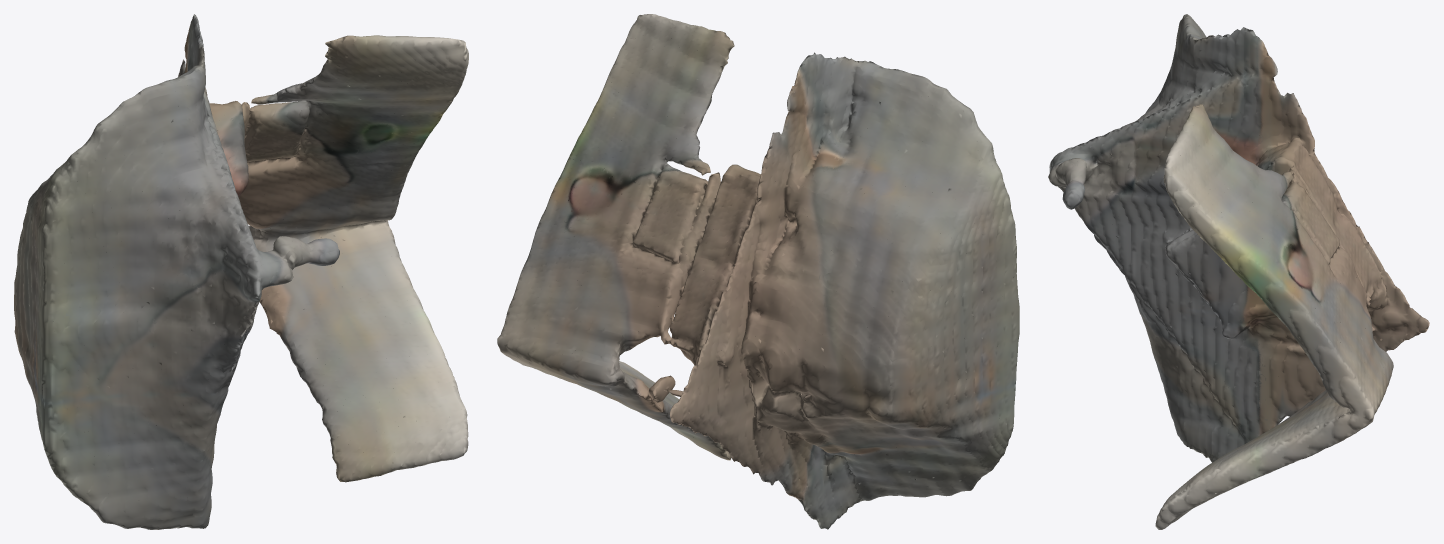
Rendered from clean.glb.
3 views of the same model, side by side, from view 1: azimuth 30°, elevation 25°; view 2: azimuth 150°, elevation 25°; view 3: azimuth 270°, elevation 25° (orthographic). The views are drawn at different scales.
Parts seen in each view (by area): view 1: raw; view 2: raw; view 3: raw.
Part boxes in pixels (bbox=[...]): raw: bbox=[14, 14, 468, 529]; raw: bbox=[497, 14, 1019, 529]; raw: bbox=[1048, 14, 1429, 529].
Size of the model in its own units: 0.915 by 1 by 0.7722.
1 material, 1 textured.
